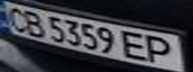3: (60, 18, 81, 47)
5: (42, 14, 66, 44), (78, 20, 100, 51)
9: (96, 25, 121, 55)
B: (18, 8, 48, 38)
C: (0, 3, 30, 33)
E: (118, 29, 154, 61)
P: (139, 34, 184, 65)
